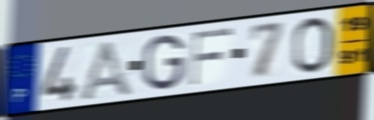4: (39, 43, 79, 104)
7: (249, 19, 286, 81)
A: (75, 38, 136, 101)
F: (188, 26, 235, 88)
G: (141, 33, 187, 93)
O: (290, 15, 335, 76)
